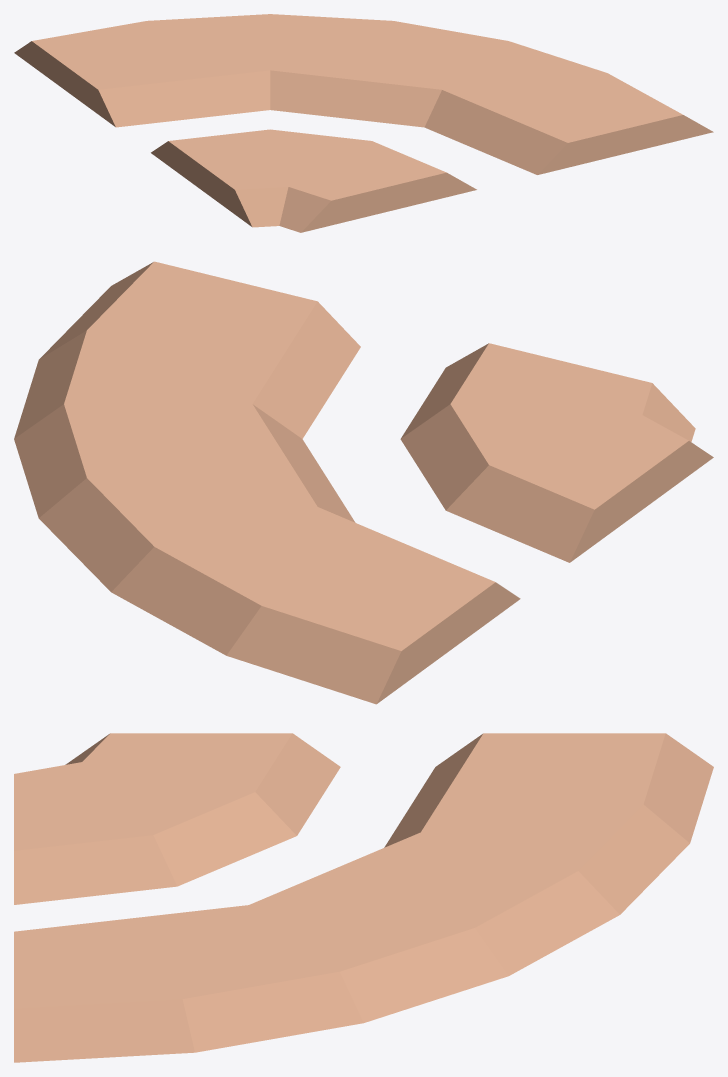
Rendered from crops_dirtdoublerowcorner.glb.
The picture shows the model from 3 angles, top to bottom: view 1: azimuth 30°, elevation 25°; view 2: azimuth 150°, elevation 25°; view 3: azimuth 270°, elevation 25°; orthographic projection. The views are drawn at different scales.
Visible parts, largest first — view 1: crops_dirtDoubleRowCorner; view 2: crops_dirtDoubleRowCorner; view 3: crops_dirtDoubleRowCorner.
Part boxes in pixels (x1=…): crops_dirtDoubleRowCorner: x1=14, y1=14, x2=713, y2=232; crops_dirtDoubleRowCorner: x1=14, y1=261, x2=713, y2=704; crops_dirtDoubleRowCorner: x1=14, y1=733, x2=713, y2=1062.
Size of the model in its own units: 0.938 by 0.05 by 0.938.
